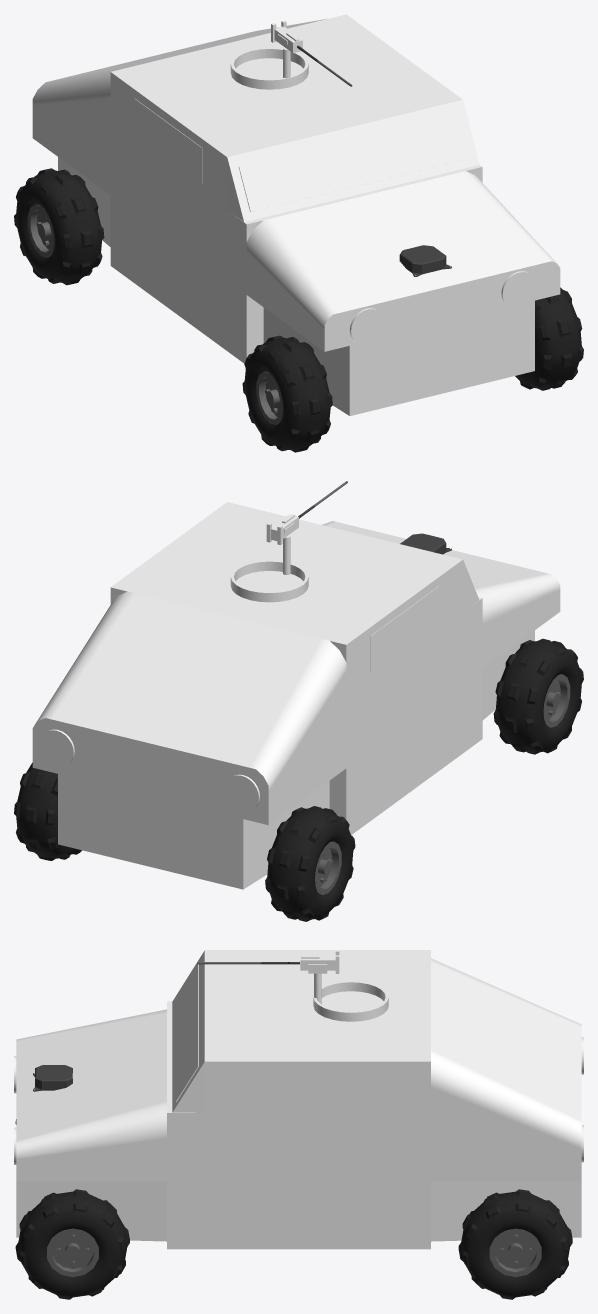
Rendered from Humver_export.obj.
3 renders of one model, top to bottom at view 1: azimuth 30°, elevation 25°; view 2: azimuth 150°, elevation 25°; view 3: azimuth 270°, elevation 25°, orthographic. The views are drawn at different scales.
Visible parts, largest first — view 1: Mesh_0, Mesh_21, Mesh_2, Mesh_1, Mesh_23, Mesh_26, TireOffroad_38, TireOffroad_30, Mesh_22, TireOffroad_19, Mesh_24, Mesh_6 (+6 smaller); view 2: Mesh_26, Mesh_21, Mesh_2, Mesh_27, TireOffroad_30, TireOffroad_38, Mesh_0, TireOffroad_34, Mesh_24, Mesh_6, Mesh_1, Rim_39 (+4 smaller); view 3: Mesh_2, Mesh_21, Mesh_26, Mesh_0, TireOffroad_34, TireOffroad_19, Mesh_1, Mesh_27, Mesh_25, Mesh_23, Mesh_22, Rim_35 (+3 smaller).
Boxes of the visible parts, bbox=[...] form: Mesh_0: bbox=[246, 171, 560, 351]; Mesh_21: bbox=[110, 14, 462, 209]; Mesh_2: bbox=[110, 125, 482, 363]; Mesh_1: bbox=[263, 300, 534, 415]; Mesh_23: bbox=[239, 113, 469, 211]; Mesh_26: bbox=[32, 18, 327, 194]; TireOffroad_38: bbox=[242, 335, 332, 452]; TireOffroad_30: bbox=[14, 168, 104, 285]; Mesh_22: bbox=[227, 100, 479, 222]; TireOffroad_19: bbox=[515, 287, 583, 390]; Mesh_24: bbox=[134, 98, 202, 183]; Mesh_6: bbox=[230, 47, 308, 89]; Mesh_26: bbox=[32, 591, 346, 825]; Mesh_21: bbox=[110, 502, 462, 697]; Mesh_2: bbox=[329, 597, 482, 834]; Mesh_27: bbox=[58, 774, 329, 889]; TireOffroad_30: bbox=[265, 806, 355, 921]; TireOffroad_38: bbox=[493, 638, 583, 754]; Mesh_0: bbox=[322, 521, 560, 667]; TireOffroad_34: bbox=[14, 762, 81, 860]; Mesh_24: bbox=[370, 586, 439, 670]; Mesh_6: bbox=[230, 560, 308, 602]; Mesh_1: bbox=[482, 630, 534, 720]; Rim_39: bbox=[543, 674, 570, 727]; Mesh_2: bbox=[167, 1001, 430, 1249]; Mesh_21: bbox=[204, 950, 430, 1112]; Mesh_26: bbox=[431, 958, 581, 1181]; Mesh_0: bbox=[16, 1009, 166, 1181]; TireOffroad_34: bbox=[458, 1189, 572, 1299]; TireOffroad_19: bbox=[15, 1189, 129, 1299]; Mesh_1: bbox=[16, 1181, 166, 1241]; Mesh_27: bbox=[431, 1181, 581, 1241]; Mesh_25: bbox=[252, 1070, 383, 1104]; Mesh_23: bbox=[175, 964, 198, 1101]; Mesh_22: bbox=[172, 951, 204, 1112]; Rim_35: bbox=[489, 1228, 541, 1277].
Bounding box in the file's own units: 2.19 × 2.08 × 3.78.
1 material, 1 textured.
